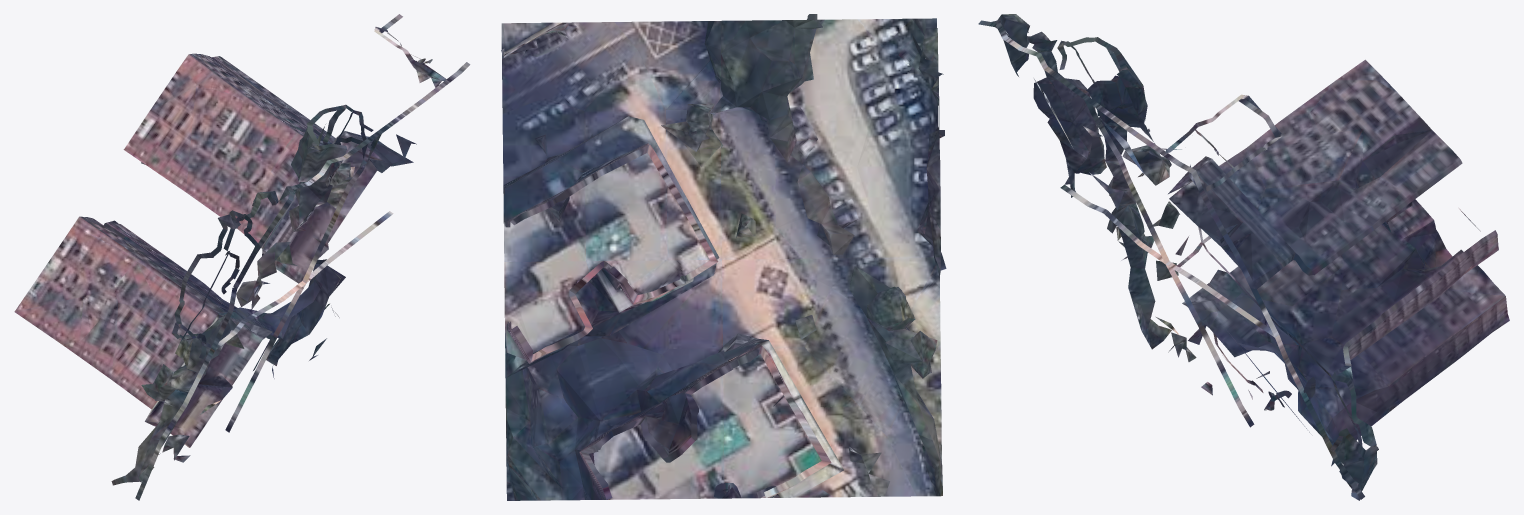
3 renders of one model, left to right at view 1: azimuth 30°, elevation 25°; view 2: azimuth 150°, elevation 25°; view 3: azimuth 270°, elevation 25°, orthographic. The views are drawn at different scales.
Size of the model in its own units: 79.94 by 76.41 by 89.33.
1 material, 1 textured.
